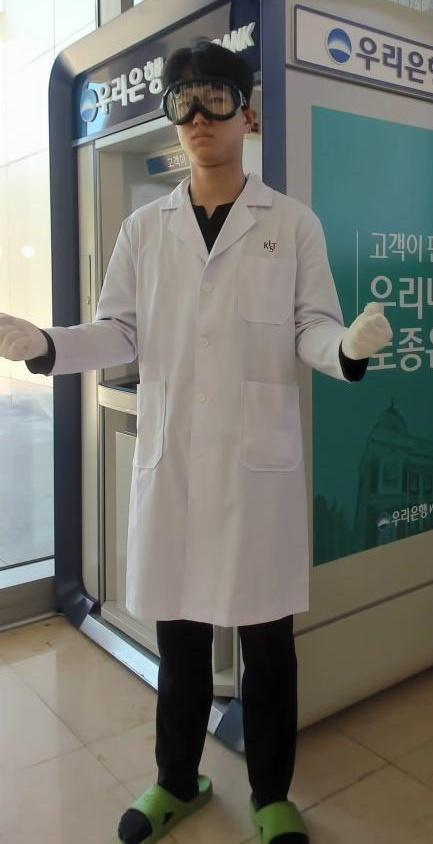lab_coat: (112, 212, 319, 607)
